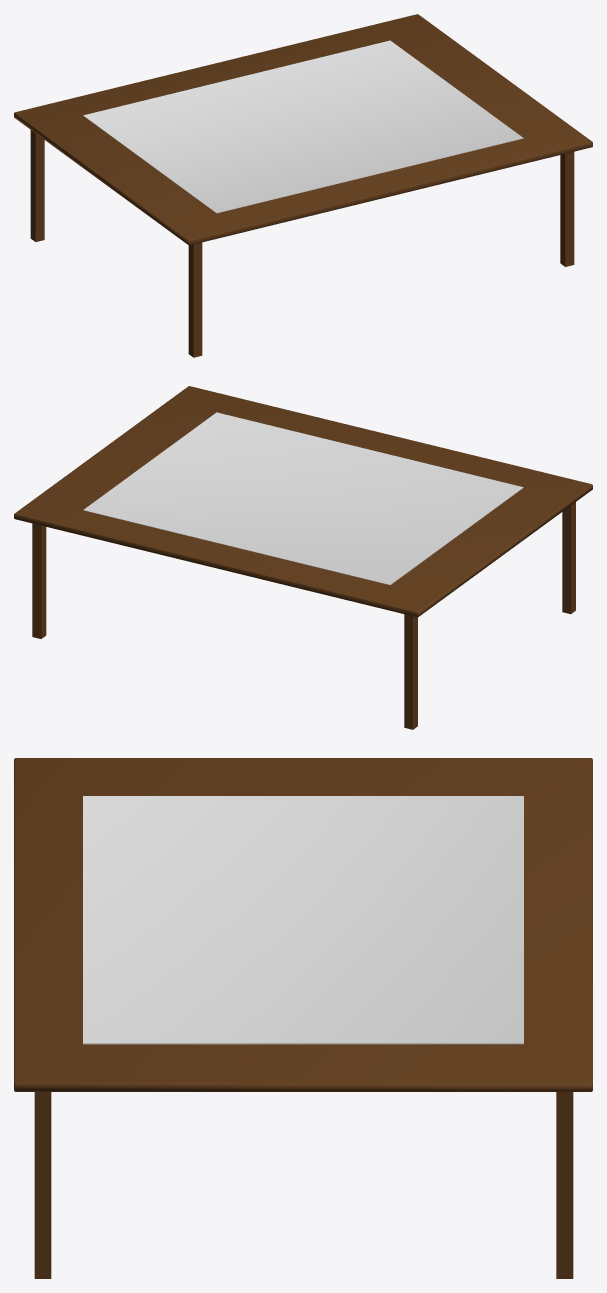
File: MapTable.fbx
3 renders of one model, top to bottom at view 1: azimuth 30°, elevation 25°; view 2: azimuth 150°, elevation 25°; view 3: azimuth 270°, elevation 25°, orthographic. The views are drawn at different scales.
Visible parts, largest first — view 1: Map, Table; view 2: Map, Table; view 3: Map, Table.
Boxes of the visible parts, left/top/right/bottom form: Map: left=83, top=40, right=523, bottom=213; Table: left=14, top=14, right=592, bottom=357; Map: left=83, top=412, right=523, bottom=585; Table: left=14, top=386, right=592, bottom=729; Map: left=83, top=796, right=523, bottom=1044; Table: left=14, top=758, right=592, bottom=1278.
Bounding box in the file's own units: 400 × 118 × 300.
